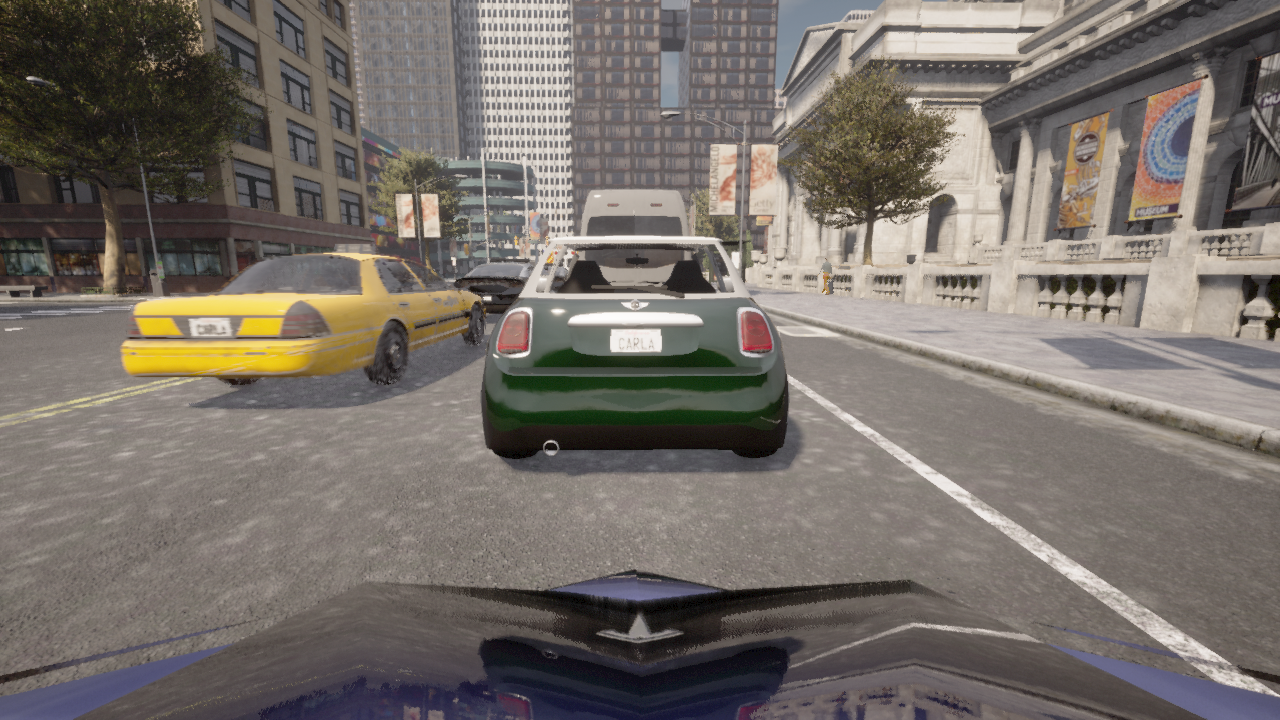cyclist: (0, 569, 1279, 719), (481, 236, 788, 458), (121, 243, 486, 385), (580, 189, 689, 235), (454, 258, 534, 312), (543, 249, 544, 251)
pedestrian: (818, 256, 832, 295)
